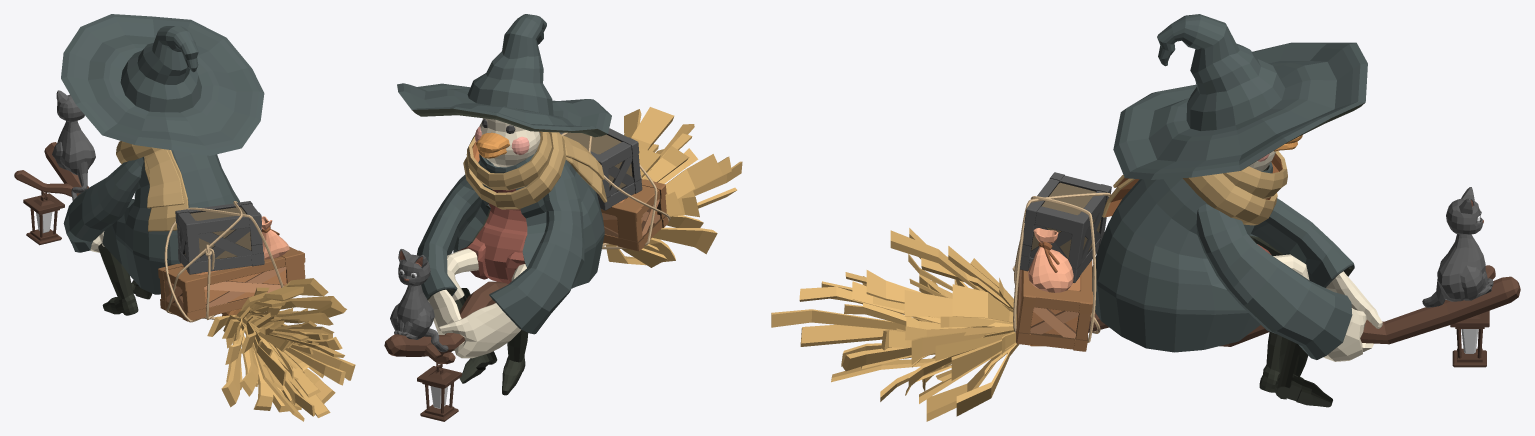
Rendered from duck1.fbx.
The picture shows the model from 3 angles, left to right: view 1: azimuth 30°, elevation 25°; view 2: azimuth 150°, elevation 25°; view 3: azimuth 270°, elevation 25°; orthographic projection. The views are drawn at different scales.
Visible parts, largest first — view 1: Cube.004; view 2: Cube.004; view 3: Cube.004.
Boxes of the visible parts, x1=… form: Cube.004: x1=14, y1=14, x2=355, y2=421; Cube.004: x1=384, y1=14, x2=742, y2=421; Cube.004: x1=771, y1=14, x2=1520, y2=421.
Size of the model in its own units: 313 by 528 by 908.
